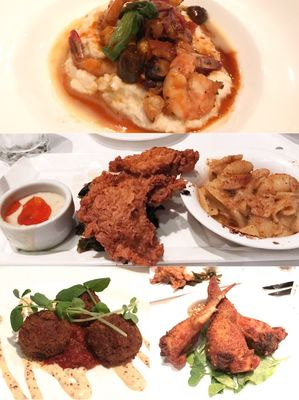burger: (261, 281, 293, 296)
pizza: (0, 179, 76, 253)
soup: (157, 275, 288, 396), (75, 146, 200, 263)
sushi: (0, 180, 75, 253)
